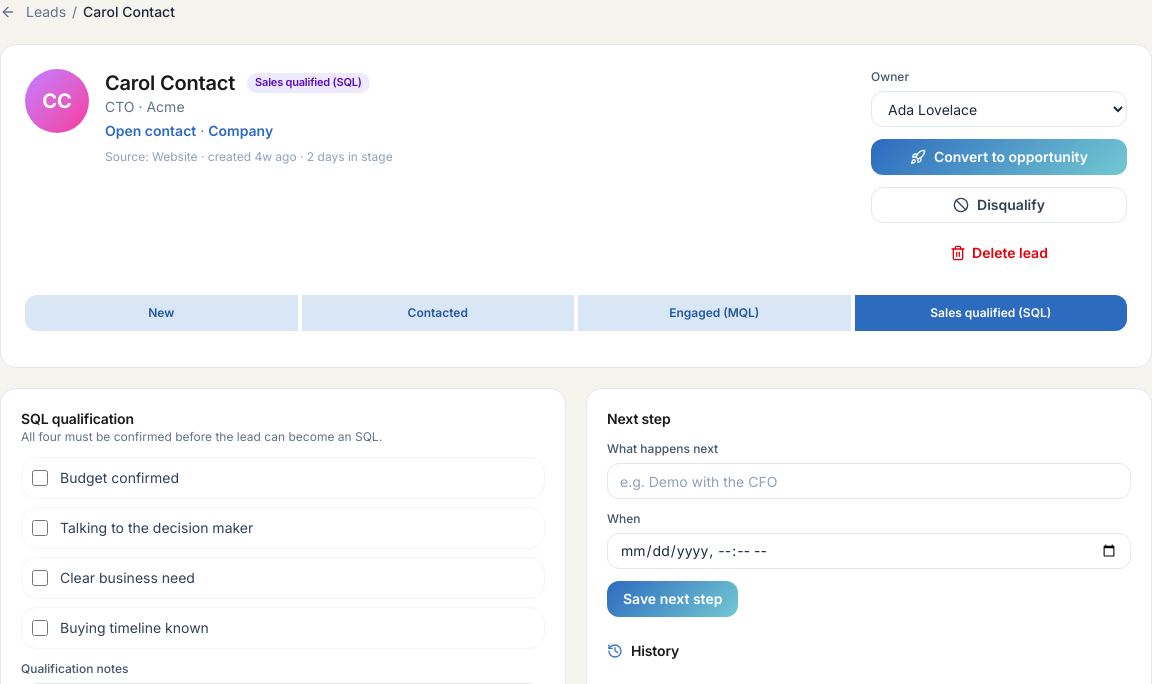
it: LeadDetail page › opens the convert dialog
The width and height of the screenshot is (1152, 684).
Click the button "Convert to opportunity" at (999, 157), box top-left (871, 139), bottom-right (1127, 175)
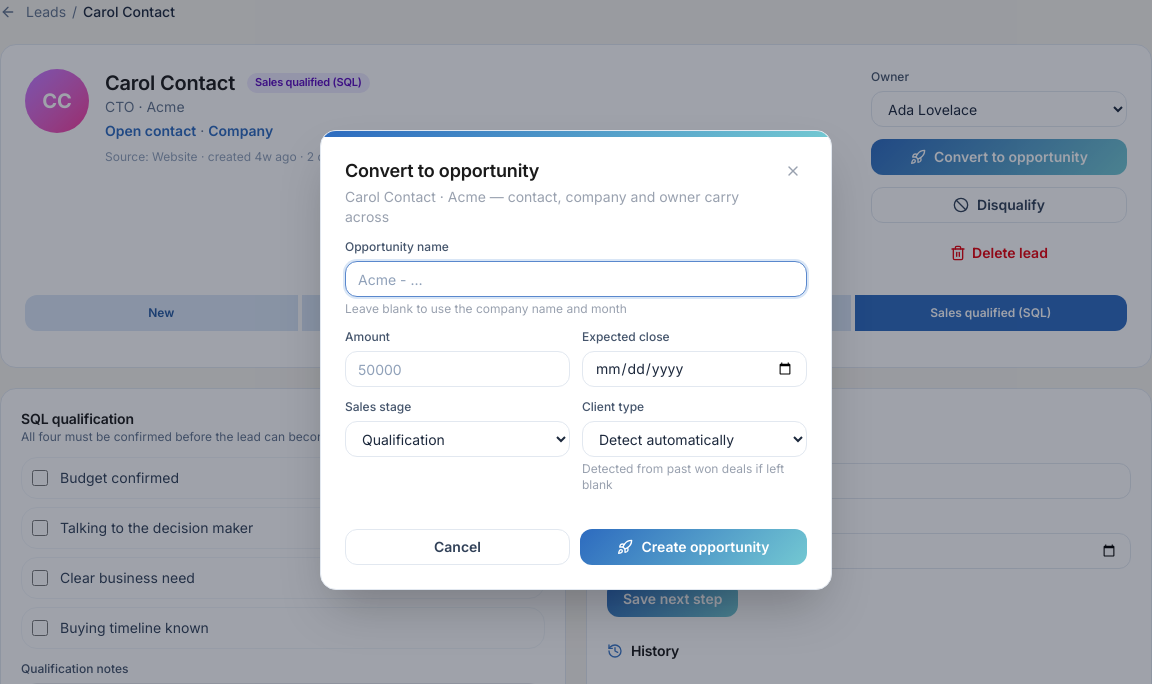
Check: the button "Create opportunity" is shown, box top-left (580, 529), bottom-right (807, 565)
